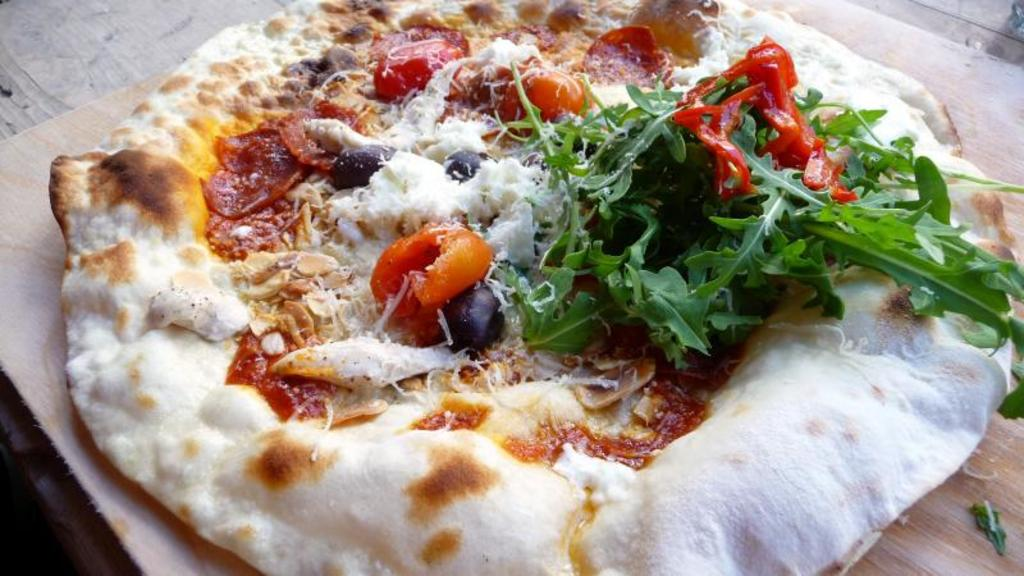Pizza: (53, 0, 1020, 574)
